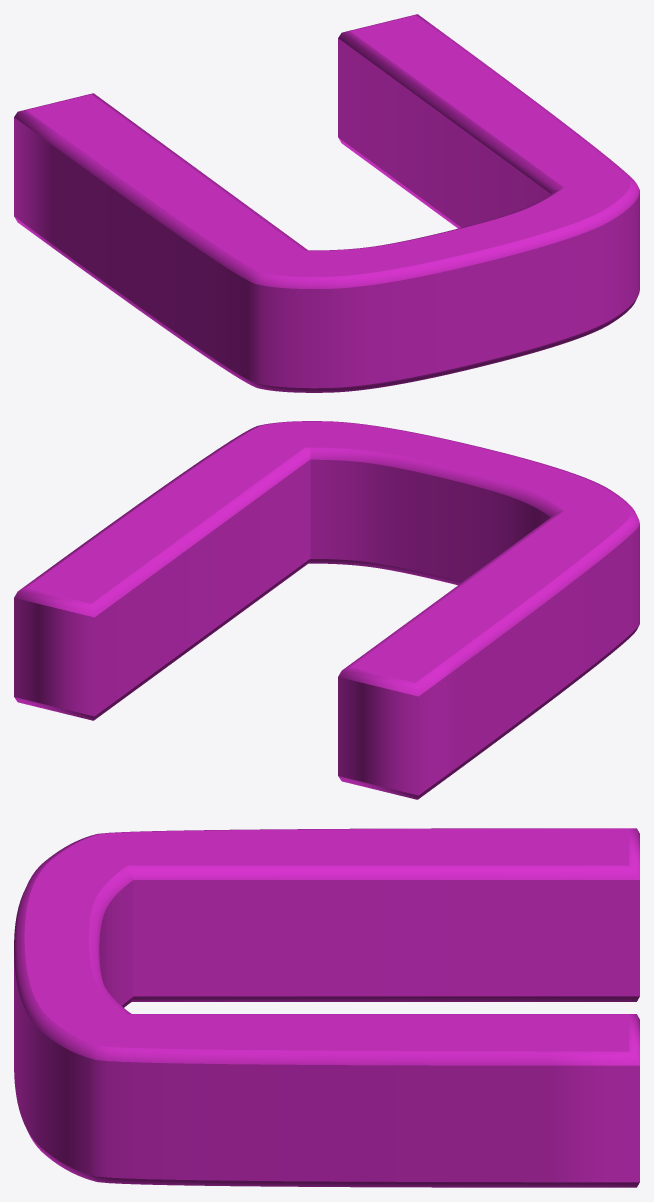
File: Letter_n_CoolFont.fbx
The picture shows the model from 3 angles, top to bottom: view 1: azimuth 30°, elevation 25°; view 2: azimuth 150°, elevation 25°; view 3: azimuth 270°, elevation 25°; orthographic projection. The views are drawn at different scales.
Visible parts, largest first — view 1: Letter_n; view 2: Letter_n; view 3: Letter_n.
Part boxes in pixels (<box>): Letter_n: <box>14,14,639,392</box>; Letter_n: <box>14,421,639,799</box>; Letter_n: <box>14,828,639,1187</box>.
Size of the model in its own units: 0.5128 by 0.14 by 0.5846.
